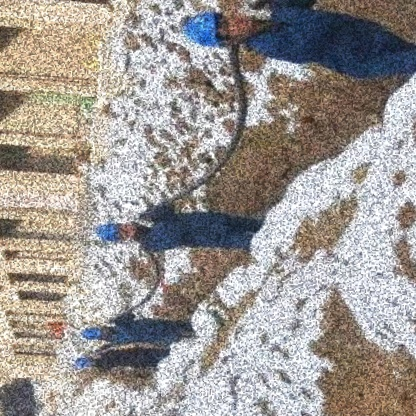blue: (179, 1, 234, 54), (89, 216, 127, 247), (74, 323, 102, 343), (67, 351, 93, 371)
